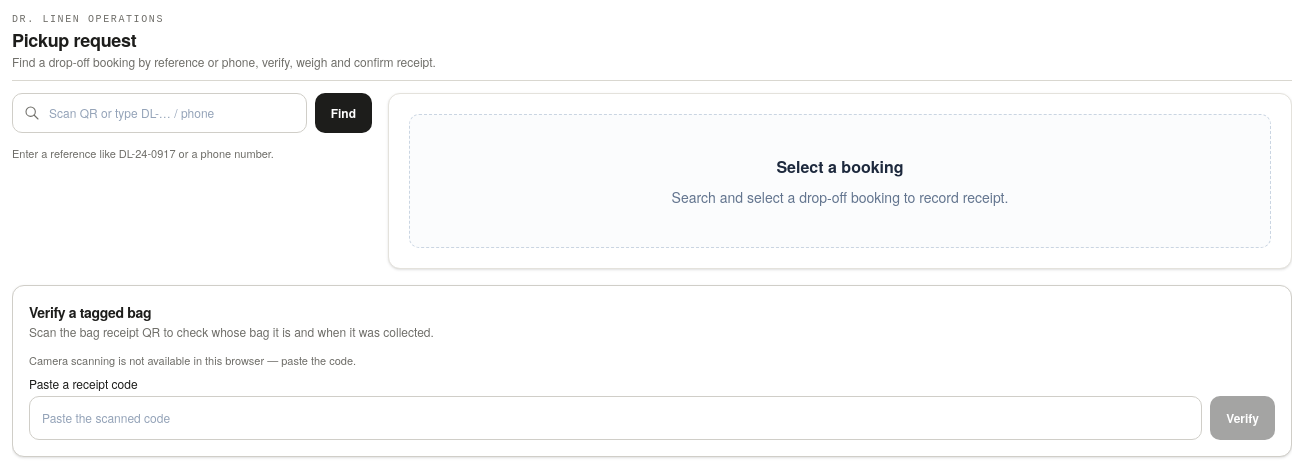
TextileReceiptPage receipt success state › keeps the search error/retry state
This screenshot has width=1292, height=475.
Type "DL-UNKNOWN" into the field named "Search by reference or phone" at (159, 112), box x1=12 y1=92 x2=307 y2=132
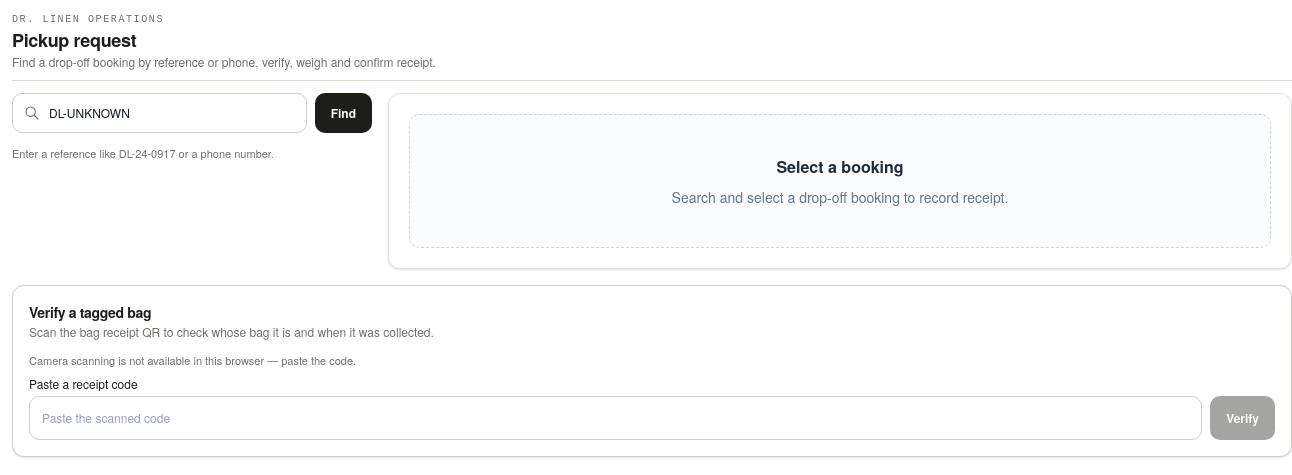
Click the button "Find" at (343, 112), box x1=315 y1=92 x2=372 y2=132
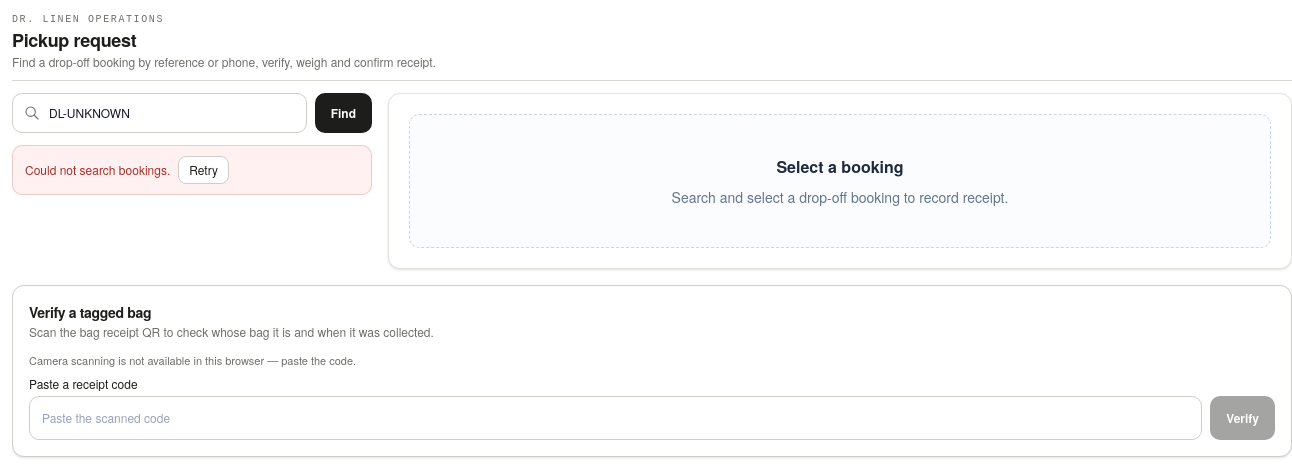
Check: the text "Could not search bookings." is shown, box x1=25 y1=162 x2=170 y2=178
Check: the button "Retry" is shown, box x1=178 y1=156 x2=229 y2=184
